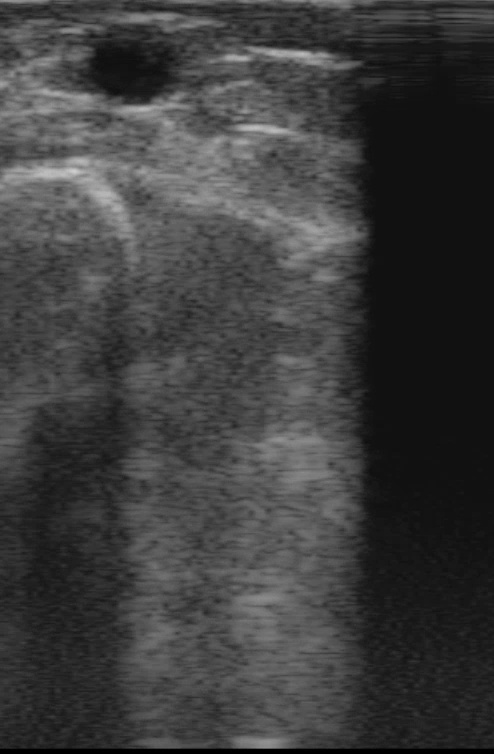veins_detect: (74, 22, 191, 110)
veins_seg: (92, 25, 174, 103)
